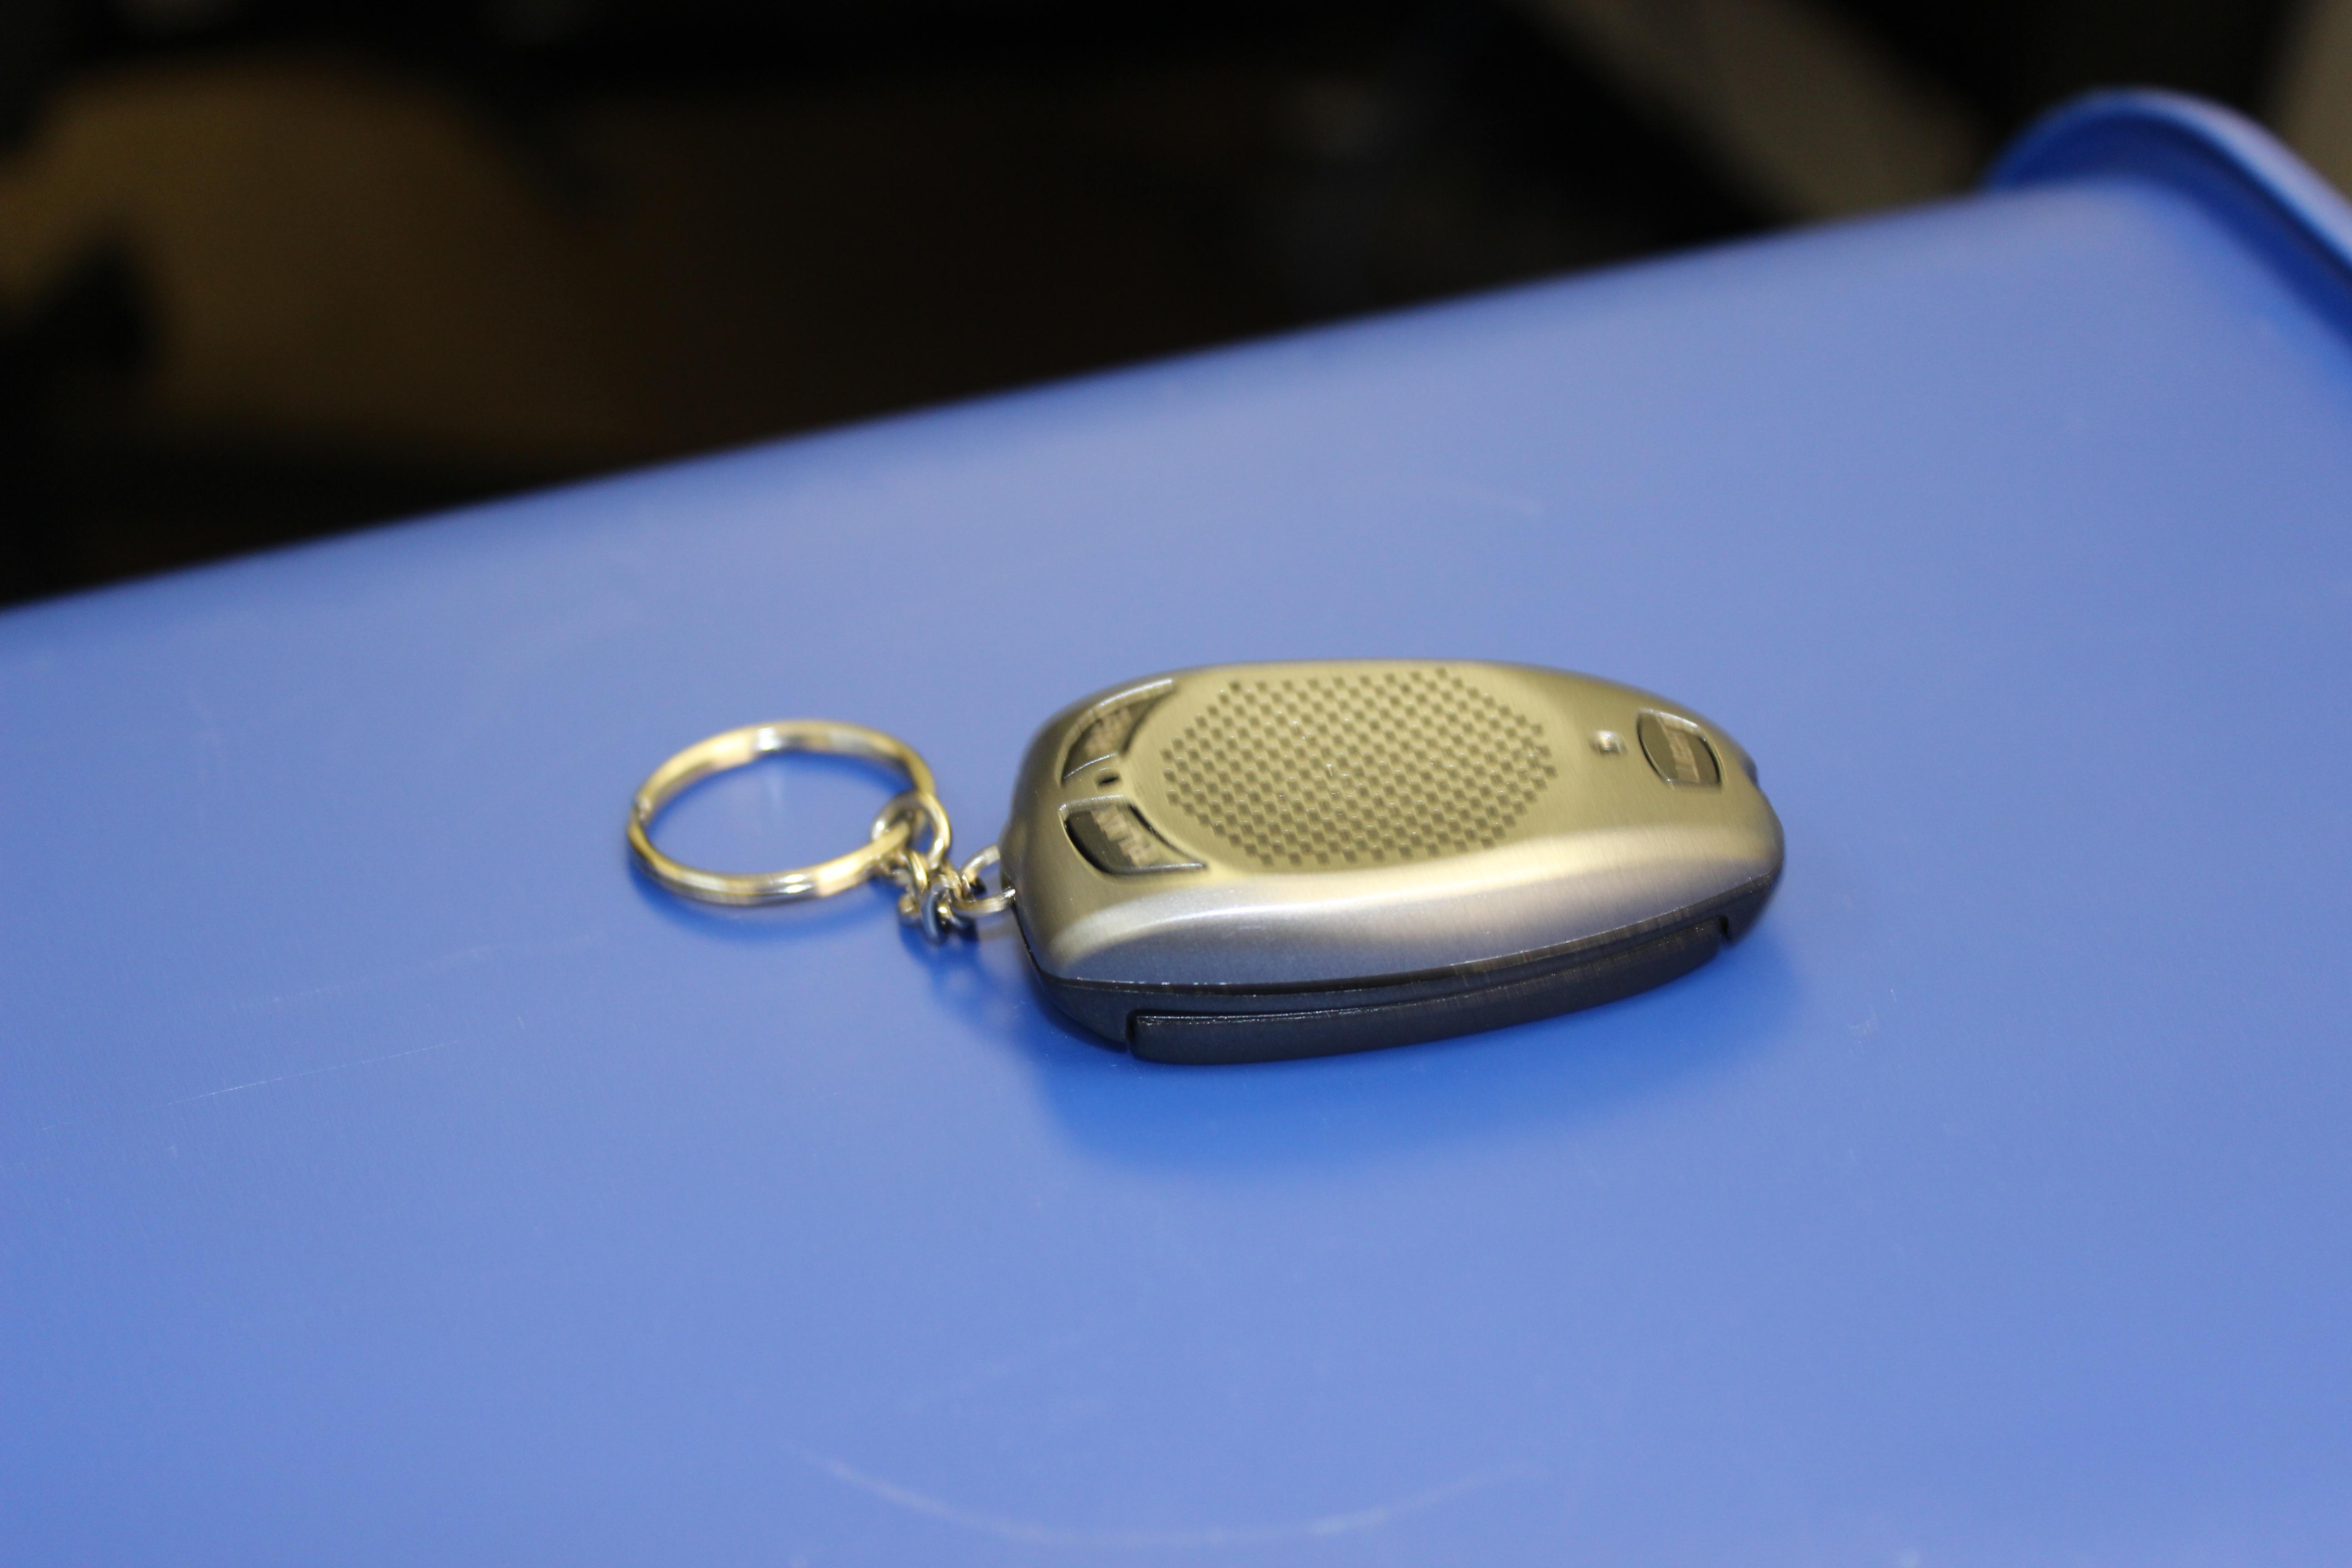voiceRecorder: (586, 614, 1829, 1150)
